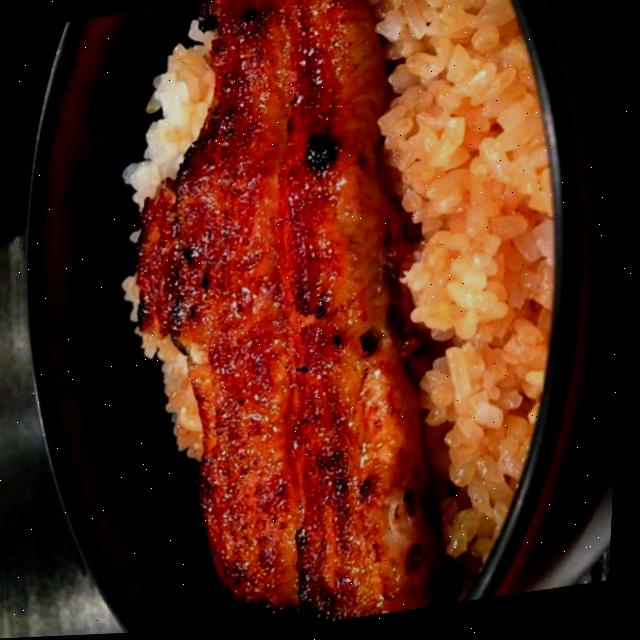熟制海鲜: (4, 0, 636, 639)
